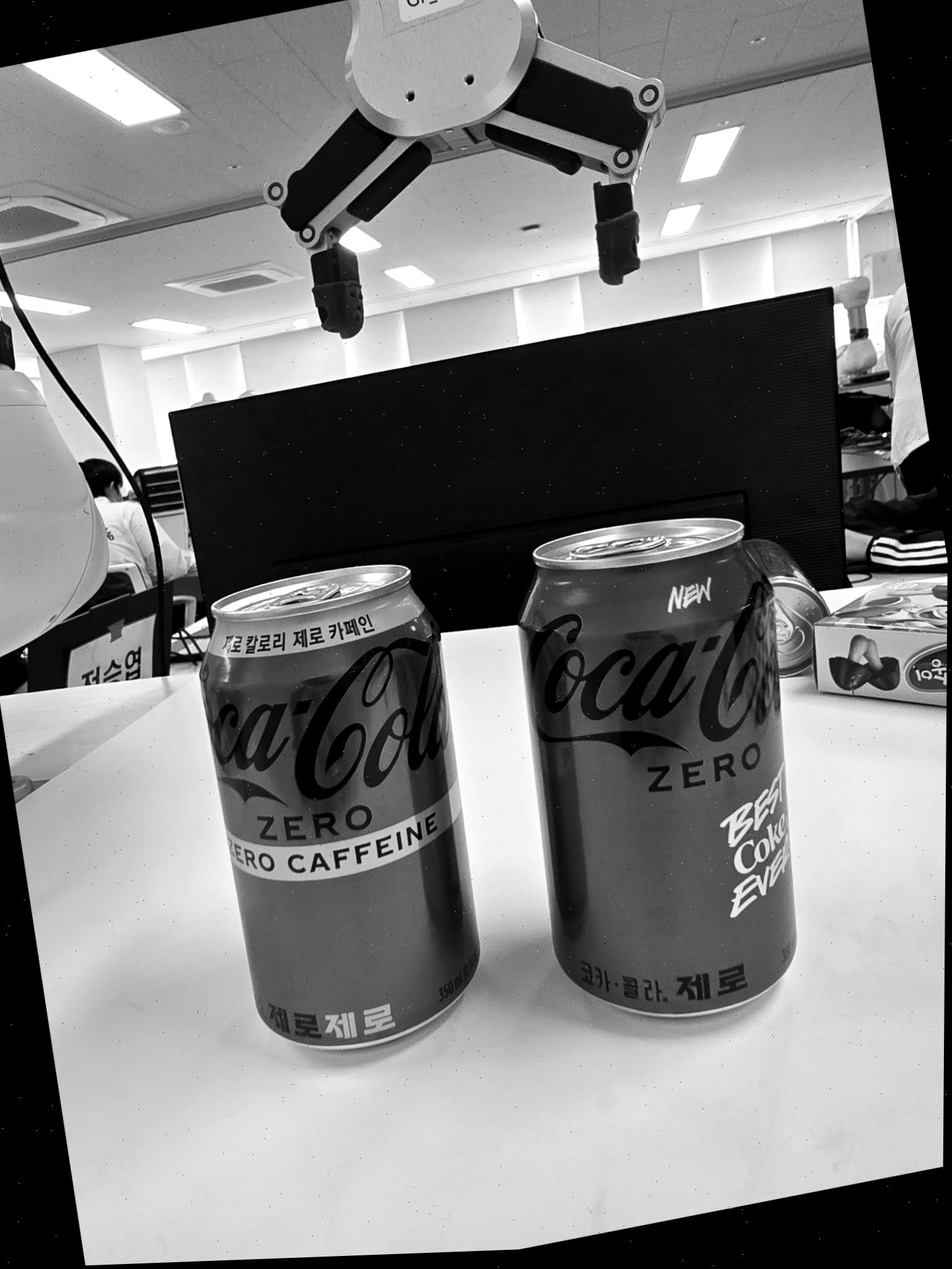can_coke_decaf: (203, 563, 489, 1046)
can_coke_zero: (520, 512, 804, 1021)
